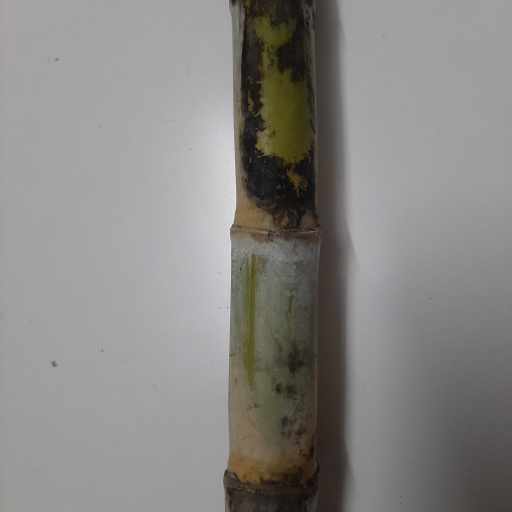Bud: (276, 208, 297, 233)
